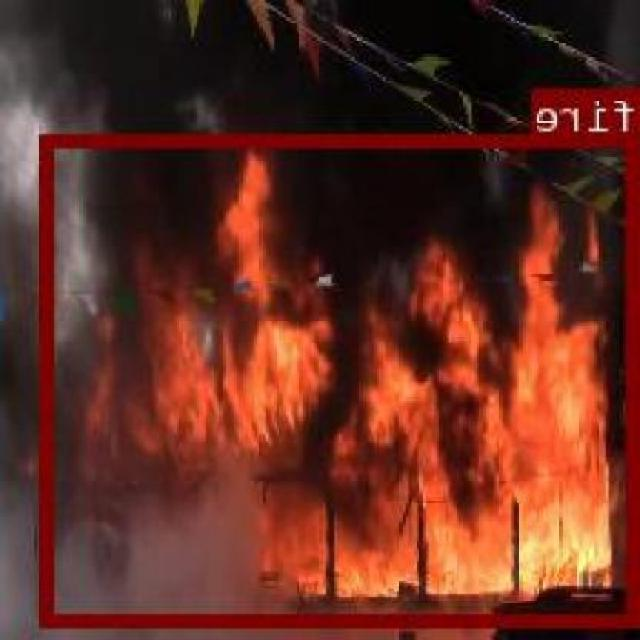Fire: (46, 132, 640, 623)
